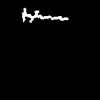double_crochet: (22, 8, 67, 21)
